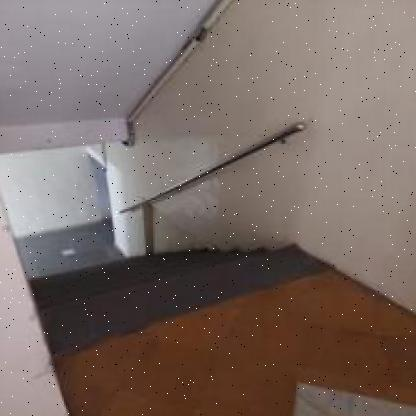stair_down: (34, 231, 244, 323)
